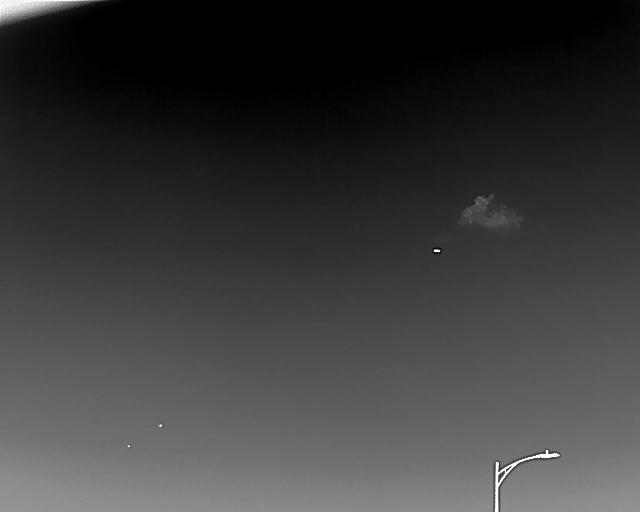fpv-drone: (432, 247, 441, 253)
